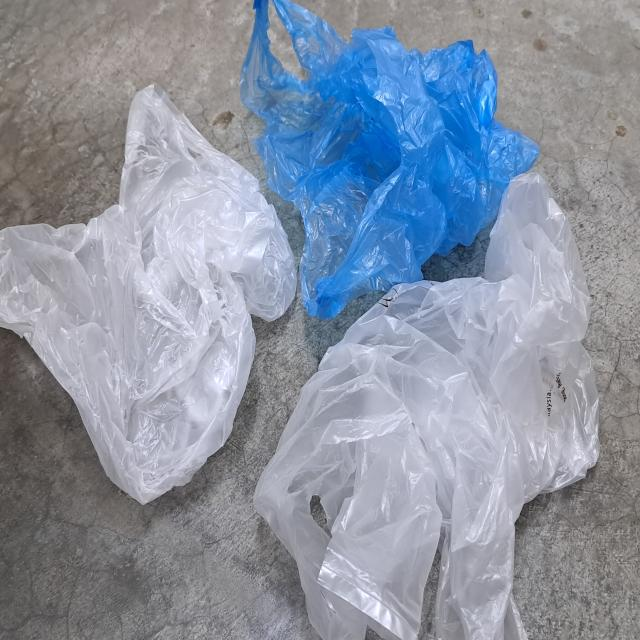plastic bag: (258, 172, 612, 636), (0, 76, 291, 506), (233, 0, 536, 312)
